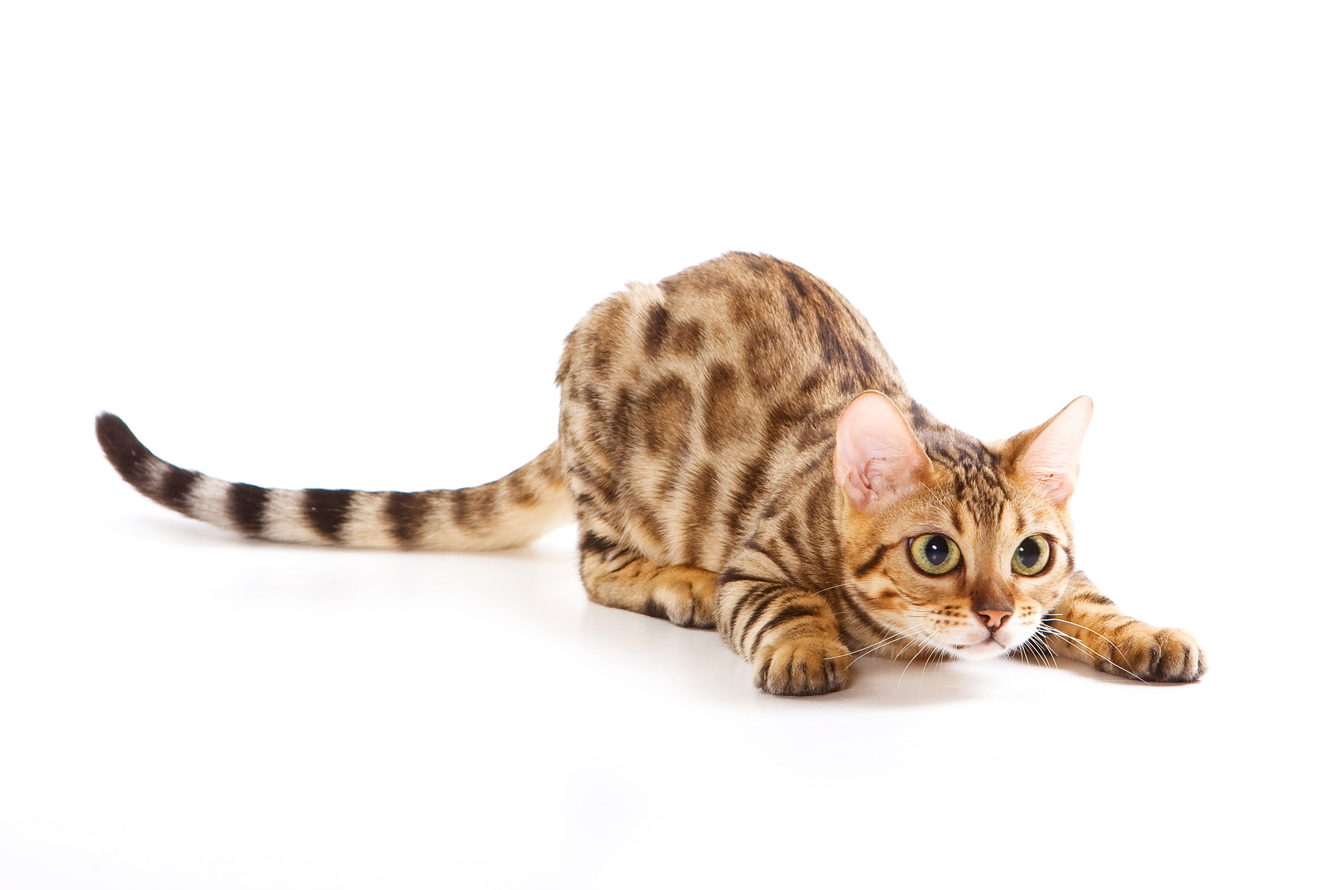Cat: (91, 243, 1221, 720)
